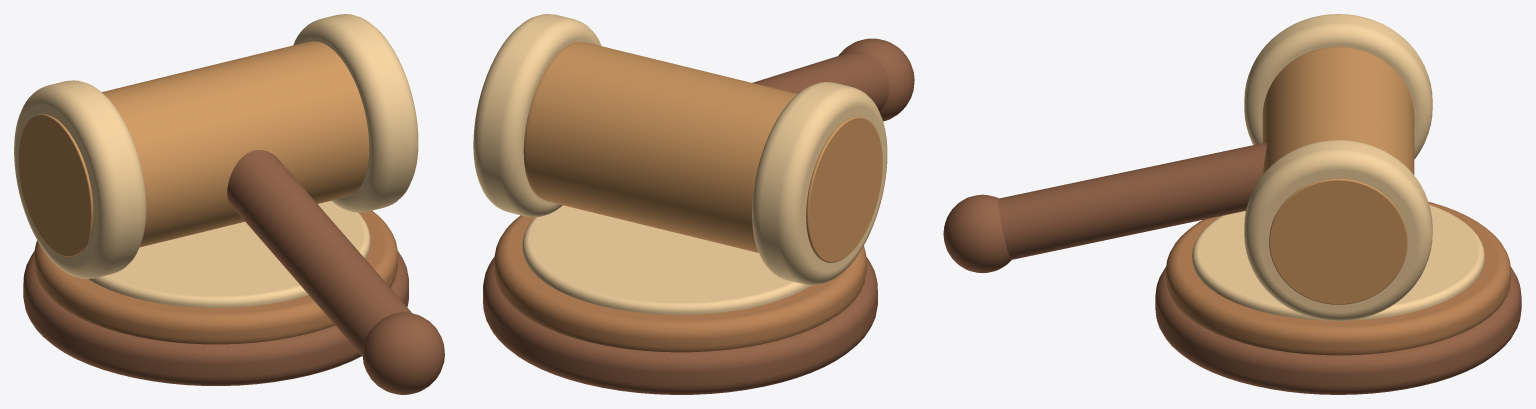
File: brand-gavel.glb
3 views of the same model, side by side, from view 1: azimuth 30°, elevation 25°; view 2: azimuth 150°, elevation 25°; view 3: azimuth 270°, elevation 25° (orthographic). The views are drawn at different scales.
Visible parts, largest first — view 1: Mallet head, Block lower, Handle, Mallet cap, Block rim, Block top, Mallet cap.001, Inset end grain, Rounded grip; view 2: Mallet head, Block top, Block lower, Block rim, Mallet cap, Mallet cap.001, Inset end grain, Handle, Rounded grip; view 3: Handle, Block rim, Block lower, Inset end grain.001, Mallet cap.001, Mallet head, Block top, Mallet cap, Rounded grip.
Part boxes in pixels (x1=…): Mallet head: x1=101, y1=41, x2=369, y2=247; Block lower: x1=23, y1=251, x2=408, y2=385; Handle: x1=227, y1=150, x2=412, y2=356; Mallet cap: x1=14, y1=80, x2=146, y2=278; Block rim: x1=34, y1=210, x2=397, y2=344; Block top: x1=88, y1=201, x2=370, y2=307; Mallet cap.001: x1=293, y1=14, x2=418, y2=212; Inset end grain: x1=18, y1=114, x2=93, y2=256; Rounded grip: x1=362, y1=312, x2=444, y2=394; Mallet head: x1=523, y1=42, x2=797, y2=252; Block top: x1=522, y1=205, x2=810, y2=314; Block lower: x1=483, y1=257, x2=877, y2=394; Block rim: x1=494, y1=215, x2=866, y2=352; Mallet cap: x1=752, y1=82, x2=887, y2=285; Mallet cap.001: x1=473, y1=14, x2=601, y2=217; Inset end grain: x1=806, y1=116, x2=882, y2=262; Handle: x1=752, y1=51, x2=889, y2=111; Rounded grip: x1=838, y1=38, x2=914, y2=121; Handle: x1=998, y1=142, x2=1266, y2=259; Block rim: x1=1165, y1=202, x2=1510, y2=355; Block lower: x1=1155, y1=266, x2=1521, y2=394; Inset end grain.001: x1=1269, y1=178, x2=1407, y2=304; Mallet cap.001: x1=1244, y1=140, x2=1432, y2=321; Mallet head: x1=1262, y1=47, x2=1414, y2=174; Block top: x1=1192, y1=204, x2=1484, y2=320; Mallet cap: x1=1244, y1=14, x2=1432, y2=159; Rounded grip: x1=943, y1=194, x2=1011, y2=273.
Size of the model in its own units: 1.4 by 1.02 by 2.21.
